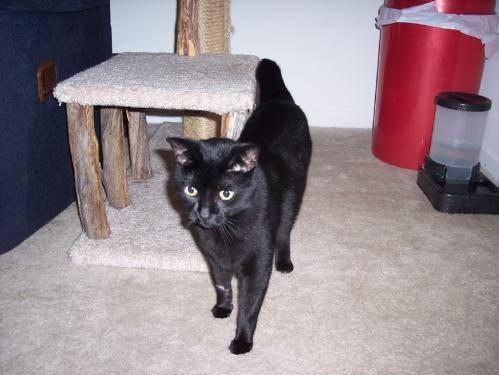cat: (166, 59, 311, 353)
